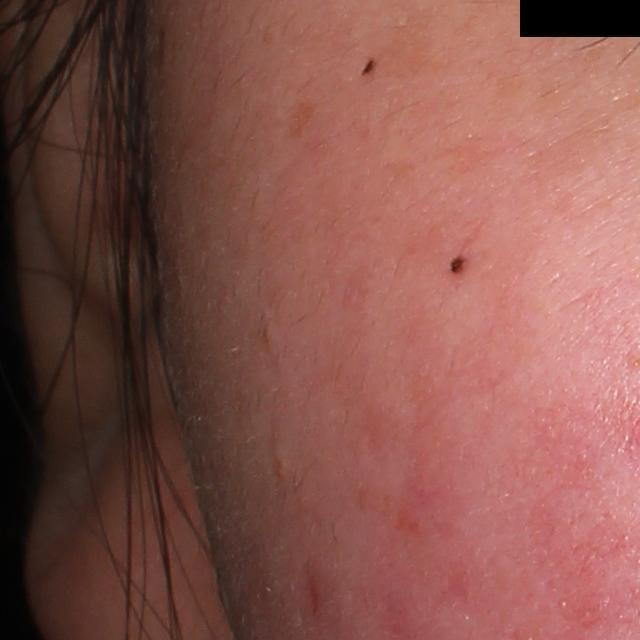melasma: (520, 106, 616, 200), (372, 0, 451, 89), (480, 73, 575, 127), (285, 97, 323, 138)
nevus: (447, 254, 468, 277), (358, 60, 377, 78)
